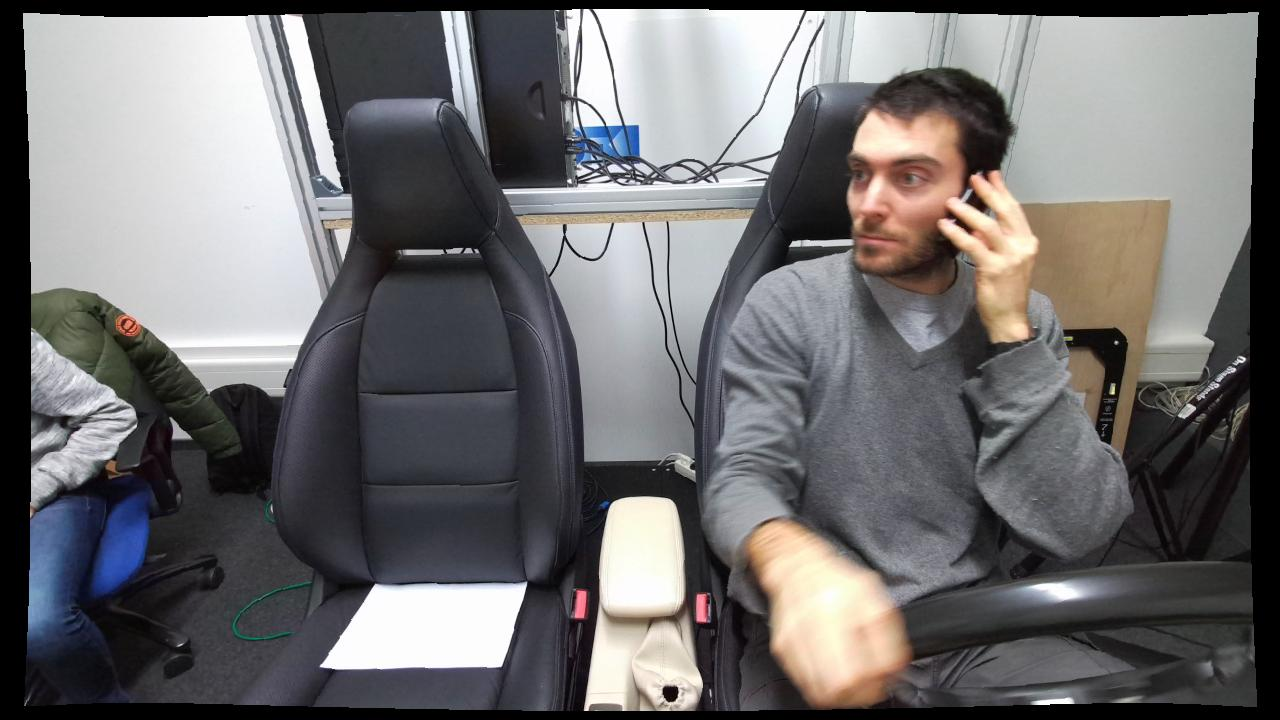Distracted: (718, 64, 1094, 700), (722, 65, 1090, 696)
PhoneUse: (917, 163, 1008, 266)
